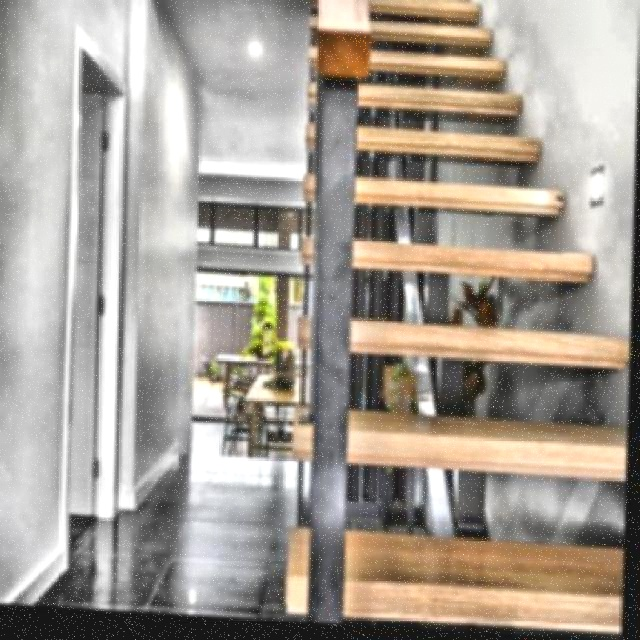stair: (292, 0, 631, 622)
